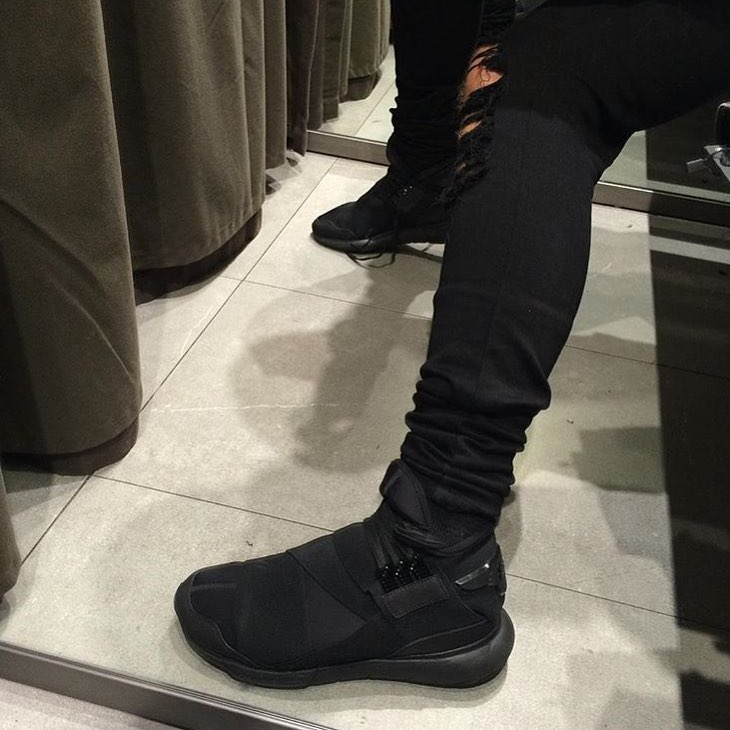sneaker: (153, 437, 532, 716), (301, 139, 489, 270)
